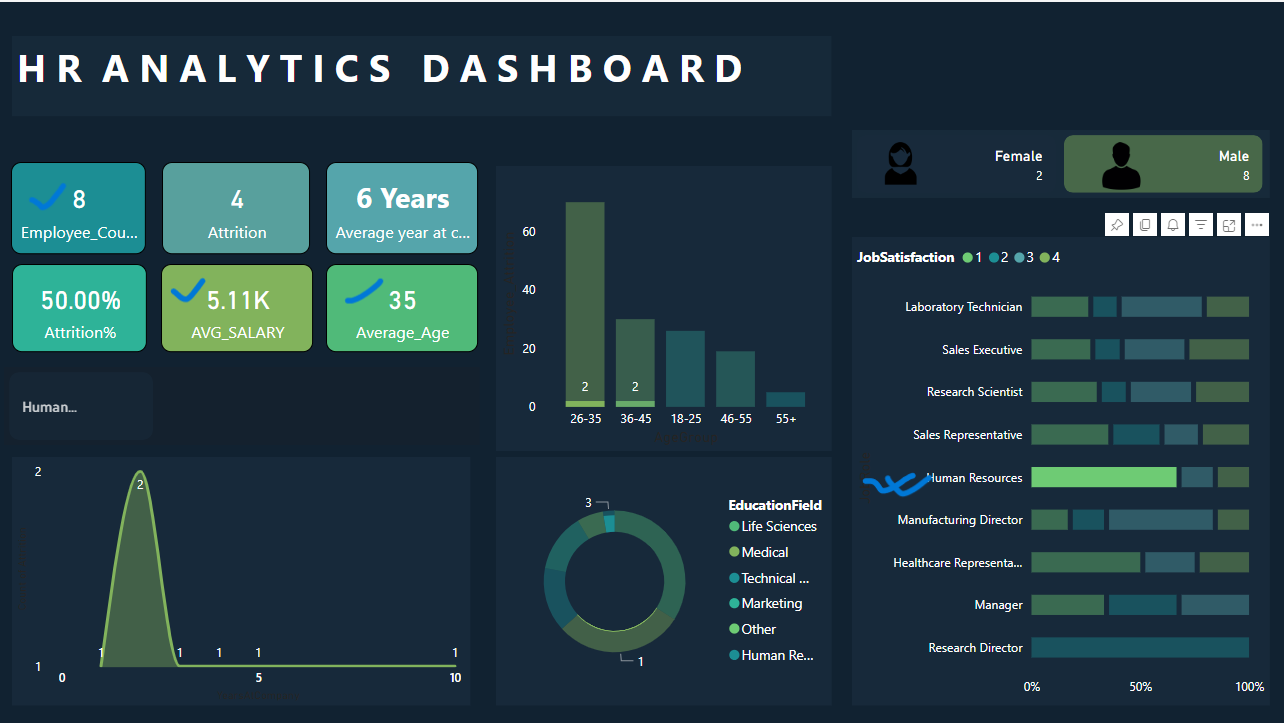

The dashboard page shown, as its layout file describes it:
{"tool":"powerbi","page":{"name":"Page 1","canvas":[1280,720],"ordinal":0},"visuals":[{"type":"card","fields":{"Values":["HR_Analytics.Employee_Attrition"]},"box":[168,157.9,146.1,90.7],"z":0},{"type":"card","fields":{"Values":["HR_Analytics.Employee_Count"]},"box":[18.5,157.9,132.7,90.7],"z":1000},{"type":"card","fields":{"Values":["HR_Analytics.Years_With_Text"]},"box":[329.2,157.9,149.5,90.7],"z":2000},{"type":"card","fields":{"Values":["HR_Analytics.Attrition%"]},"box":[20.2,258.7,132.7,87.3],"z":3000},{"type":"card","fields":{"Values":["HR_Analytics.AVG_SALARY"]},"box":[166.3,258.7,149.5,87.3],"z":4000},{"type":"card","fields":{"Values":["HR_Analytics.Average_Age"]},"box":[329.2,258.7,149.5,87.3],"z":5000},{"type":"areaChart","fields":{"Y":["CountNonNull(HR_Analytics.Attrition)"],"Category":["HR_Analytics.YearsAtCompany"]},"box":[20.2,448.5,451.9,245.2],"z":6000},{"type":"donutChart","fields":{"Y":["HR_Analytics.Employee_Attrition"],"Category":["HR_Analytics.EducationField"]},"box":[497.2,448.5,330.9,245.2],"z":7000},{"type":"columnChart","fields":{"Category":["HR_Analytics.AgeGroup"],"Y":["HR_Analytics.Employee_Attrition"]},"box":[497.2,161.3,330.9,280.5],"z":8000},{"type":"hundredPercentStackedBarChart","fields":{"Y":["HR_Analytics.Employee_Attrition"],"Series":["HR_Analytics.JobSatisfaction"],"Category":["HR_Analytics.JobRole"]},"box":[848.3,231.8,411.5,461.9],"z":9000},{"type":"advancedSlicerVisual","fields":{"Values":["HR_Analytics.Gender"]},"box":[848.3,126,411.5,67.2],"z":10000},{"type":"image","box":[848.3,132.7,95.7,52.1],"z":11000},{"type":"image","box":[1054.9,132.7,117.6,57.1],"z":12000},{"type":"advancedSlicerVisual","fields":{"Values":["HR_Analytics.Department"]},"box":[11.8,359.5,468.7,77.3],"z":13000},{"type":"textbox","box":[20.2,33.6,808,79],"z":13001}]}

Visuals, with their boxes in screenshot pixels (x1, y1, x2, y2), scaled from the page's 1280x720 canvas onto the 1284x723 screenshot:
card - HR_Analytics.Employee_Attrition: {"left": 169, "top": 159, "right": 315, "bottom": 250}
card - HR_Analytics.Employee_Count: {"left": 19, "top": 159, "right": 152, "bottom": 250}
card - HR_Analytics.Years_With_Text: {"left": 330, "top": 159, "right": 480, "bottom": 250}
card - HR_Analytics.Attrition%: {"left": 20, "top": 260, "right": 153, "bottom": 347}
card - HR_Analytics.AVG_SALARY: {"left": 167, "top": 260, "right": 317, "bottom": 347}
card - HR_Analytics.Average_Age: {"left": 330, "top": 260, "right": 480, "bottom": 347}
areaChart - CountNonNull(HR_Analytics.Attrition) x HR_Analytics.YearsAtCompany: {"left": 20, "top": 450, "right": 474, "bottom": 697}
donutChart - HR_Analytics.Employee_Attrition x HR_Analytics.EducationField: {"left": 499, "top": 450, "right": 831, "bottom": 697}
columnChart - HR_Analytics.AgeGroup x HR_Analytics.Employee_Attrition: {"left": 499, "top": 162, "right": 831, "bottom": 444}
hundredPercentStackedBarChart - HR_Analytics.Employee_Attrition x HR_Analytics.JobSatisfaction: {"left": 851, "top": 233, "right": 1264, "bottom": 697}
advancedSlicerVisual - HR_Analytics.Gender: {"left": 851, "top": 127, "right": 1264, "bottom": 194}
image: {"left": 851, "top": 133, "right": 947, "bottom": 186}
image: {"left": 1058, "top": 133, "right": 1176, "bottom": 191}
advancedSlicerVisual - HR_Analytics.Department: {"left": 12, "top": 361, "right": 482, "bottom": 439}
textbox: {"left": 20, "top": 34, "right": 831, "bottom": 113}
